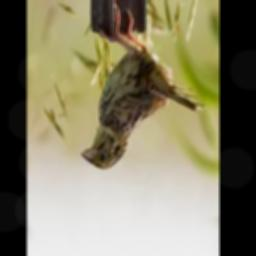Sparrow: (79, 4, 209, 171)
